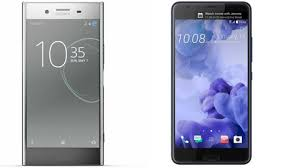htc: (19, 1, 106, 168), (169, 1, 256, 168)
